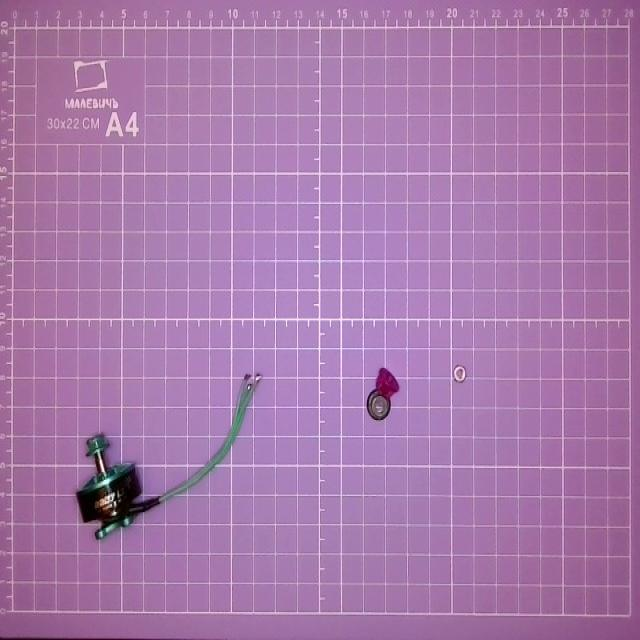motor: (76, 365, 265, 540)
screw_M3: (450, 364, 469, 384)
screw_M5: (364, 390, 395, 420), (375, 365, 398, 402)
